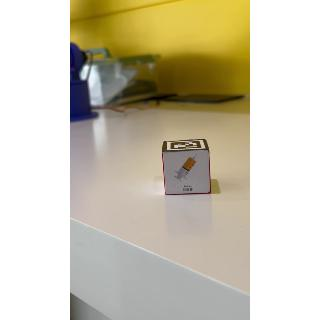Syringe: (162, 153, 215, 198)
